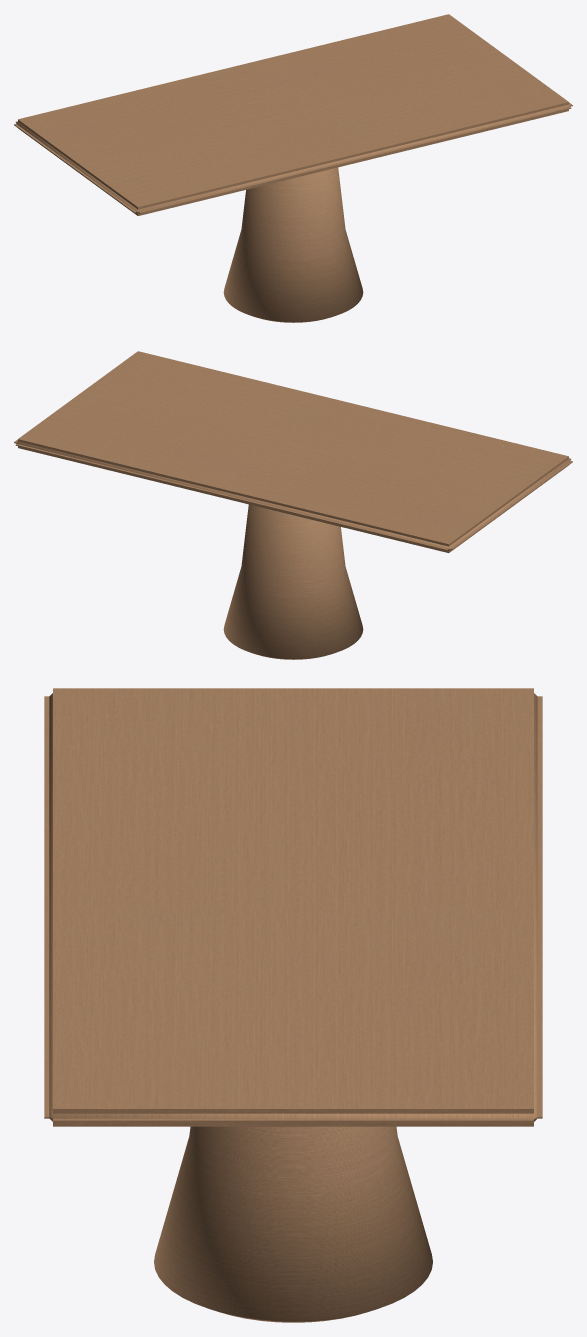
Rendered from contemporary.dining_table.gltf.
3 views of the same model, one above another, from view 1: azimuth 30°, elevation 25°; view 2: azimuth 150°, elevation 25°; view 3: azimuth 270°, elevation 25° (orthographic). The views are drawn at different scales.
Parts seen in each view (by area): view 1: contemporary.dining_table.rounded-top; view 2: contemporary.dining_table.rounded-top; view 3: contemporary.dining_table.rounded-top.
Boxes of the visible parts, x1=… form: contemporary.dining_table.rounded-top: x1=14, y1=14, x2=572, y2=322; contemporary.dining_table.rounded-top: x1=14, y1=351, x2=572, y2=659; contemporary.dining_table.rounded-top: x1=44, y1=688, x2=542, y2=1322.
Size of the model in its own units: 1.85 by 0.75 by 0.91.
1 material, 1 textured.
